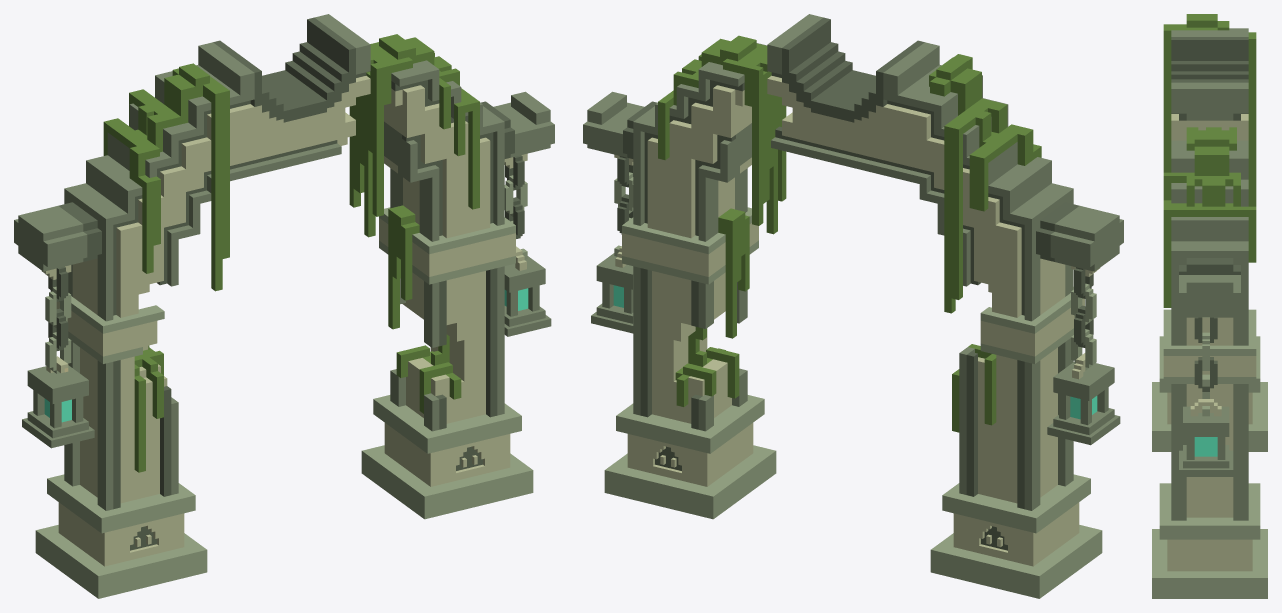
File: arch.obj
3 views of the same model, side by side, from view 1: azimuth 30°, elevation 25°; view 2: azimuth 150°, elevation 25°; view 3: azimuth 270°, elevation 25° (orthographic). The views are drawn at different scales.
Bounding box in the file's own units: 14 × 12.6 × 3.
Materials: 1 (1 with a texture image).
